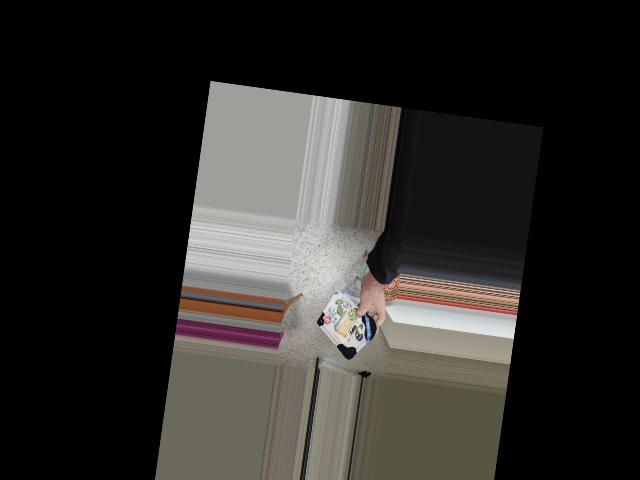cheese: (306, 292, 383, 361)
